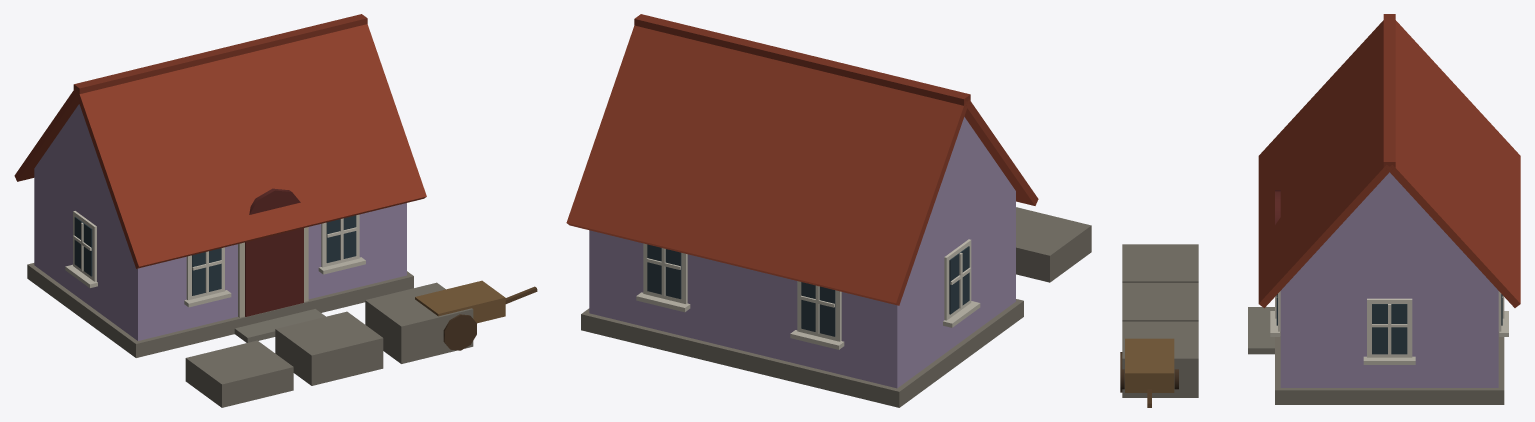
The model's file is procedural_road_depot@4.glb.
3 renders of one model, left to right at view 1: azimuth 30°, elevation 25°; view 2: azimuth 150°, elevation 25°; view 3: azimuth 270°, elevation 25°, orthographic. The views are drawn at different scales.
Parts seen in each view (by area): view 1: part_0; view 2: part_0; view 3: part_0.
Boxes of the visible parts, x1,y1,x2,y2 form: part_0: [14, 14, 537, 407]; part_0: [566, 14, 1091, 407]; part_0: [1120, 14, 1520, 407].
Bounding box in the file's own units: 7.71 × 4.97 × 7.34.
